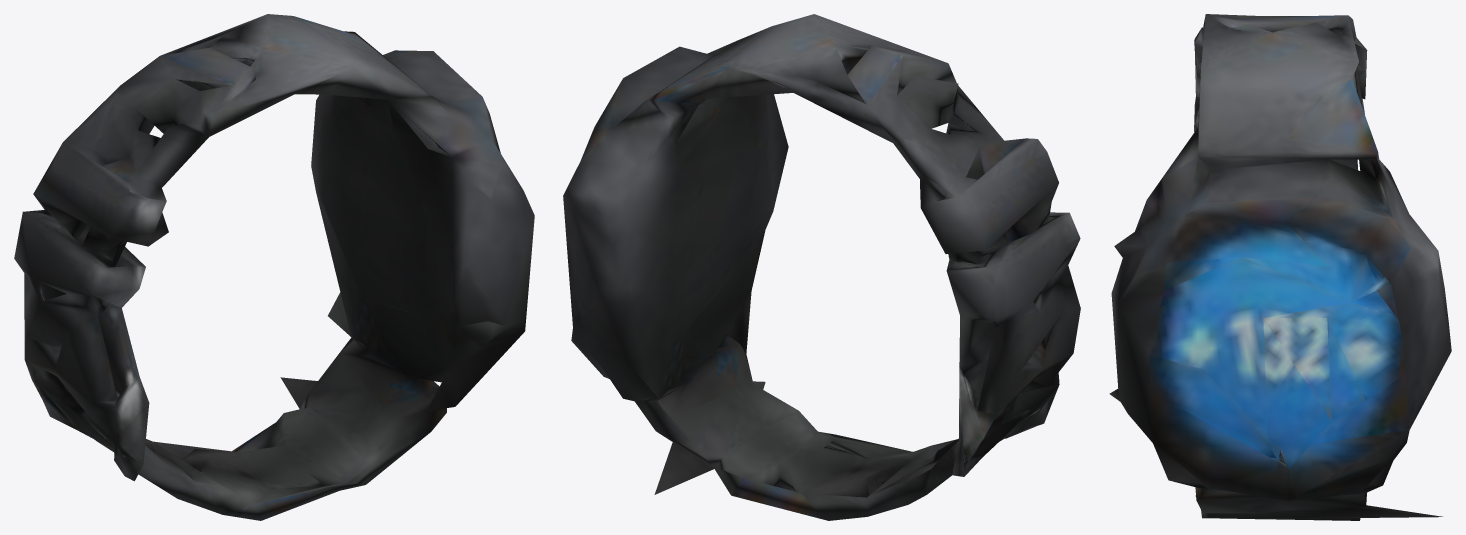
File: relogio.glb
3 views of the same model, side by side, from view 1: azimuth 30°, elevation 25°; view 2: azimuth 150°, elevation 25°; view 3: azimuth 270°, elevation 25° (orthographic). The views are drawn at different scales.
Visible parts, largest first — view 1: tripo_node_861e4ffa-be28-4f2d-8120-47291bf28d2d; view 2: tripo_node_861e4ffa-be28-4f2d-8120-47291bf28d2d; view 3: tripo_node_861e4ffa-be28-4f2d-8120-47291bf28d2d.
Boxes of the visible parts, <box> form: tripo_node_861e4ffa-be28-4f2d-8120-47291bf28d2d: <box>14,14,534,520</box>; tripo_node_861e4ffa-be28-4f2d-8120-47291bf28d2d: <box>563,14,1080,520</box>; tripo_node_861e4ffa-be28-4f2d-8120-47291bf28d2d: <box>1109,14,1451,520</box>.
Bounding box in the file's own units: 0.9932 × 1 × 0.6632.
Materials: 1 (1 with a texture image).
